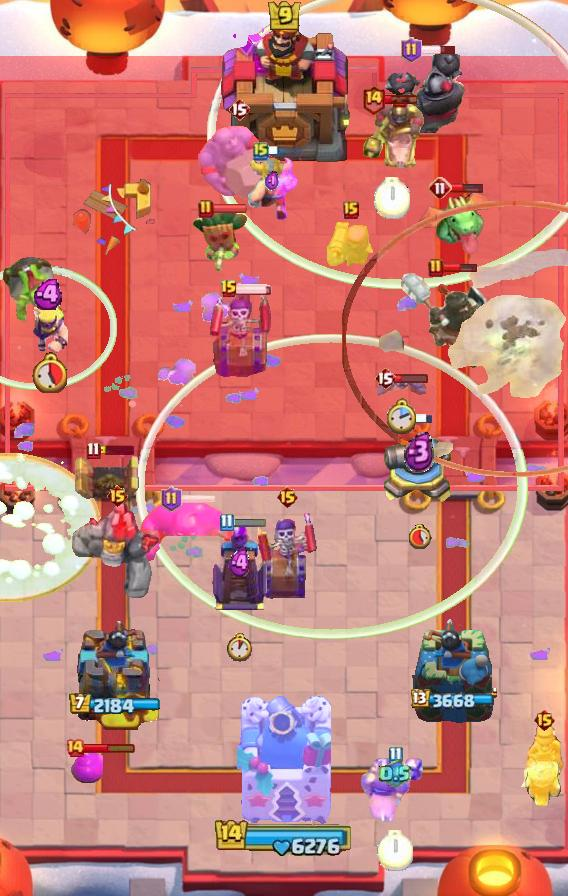archer-queen: (196, 123, 282, 203)
arrows: (24, 301, 74, 355)
bar-level: (0, 254, 58, 326)
barbarian-barrel: (375, 375, 429, 397)
cannoneer-tower: (70, 501, 164, 601)
clock: (214, 817, 354, 857)
clone: (131, 499, 243, 565)
electro-spirit: (405, 431, 436, 472), (33, 279, 67, 309), (379, 760, 411, 788), (228, 547, 252, 579), (265, 171, 279, 193)
electro-wizard: (415, 188, 495, 256)
elite-barbarian: (521, 723, 567, 807)
elixir: (374, 177, 410, 219), (377, 830, 413, 871), (32, 352, 67, 393), (387, 398, 418, 436), (226, 633, 254, 662), (408, 523, 433, 549)
emote: (83, 742, 137, 754), (267, 144, 304, 157), (235, 283, 273, 295), (420, 44, 457, 56), (180, 493, 217, 505), (393, 372, 429, 384), (450, 182, 483, 194), (212, 203, 248, 214), (442, 262, 478, 273), (382, 94, 417, 105), (233, 516, 268, 527), (98, 445, 134, 455), (414, 413, 434, 425)
freeze: (359, 755, 431, 825), (358, 99, 426, 173)
goblin-barrel: (191, 206, 251, 274)
goblin-brawler: (71, 454, 143, 502)
goblin-giant: (246, 155, 297, 221)
ice-spirit-evolution-symbol: (210, 520, 270, 612)
inferno-dragon: (399, 270, 495, 372)
king-tower: (211, 7, 357, 181), (237, 696, 331, 826)
miner: (71, 753, 103, 783)
phoenix-big: (0, 454, 100, 603)
queen-tower: (66, 617, 162, 731), (409, 616, 497, 731)
royal-ghost: (342, 201, 568, 477)
royal-guardian: (380, 51, 466, 133)
royal-recruit: (383, 423, 455, 507)
selected: (68, 693, 160, 717), (412, 689, 497, 711)
skeleton-king-bar: (256, 510, 318, 602), (210, 291, 272, 377)
text: (362, 84, 387, 115), (428, 176, 452, 200), (106, 484, 129, 508), (276, 485, 299, 509), (533, 708, 556, 732), (401, 37, 422, 63), (162, 486, 183, 512), (228, 97, 250, 121), (374, 366, 396, 390), (65, 738, 85, 758), (220, 279, 238, 299), (253, 141, 269, 161), (198, 199, 214, 219), (428, 258, 444, 278), (343, 201, 359, 219), (218, 512, 233, 531), (87, 441, 101, 459), (389, 747, 403, 765)
tombstone: (327, 216, 375, 272)
